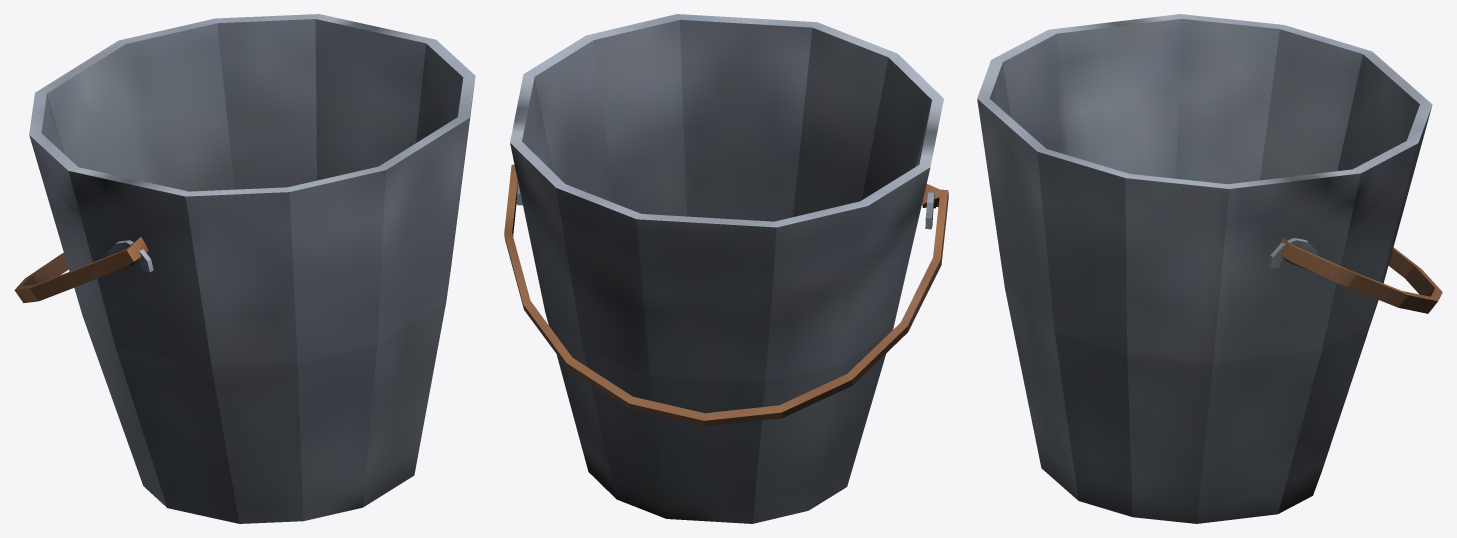
The model's file is bucket.glb.
3 views of the same model, side by side, from view 1: azimuth 30°, elevation 25°; view 2: azimuth 150°, elevation 25°; view 3: azimuth 270°, elevation 25° (orthographic). The views are drawn at different scales.
Parts seen in each view (by area): view 1: Object001.003_Object001_mtl_0; view 2: Object001.003_Object001_mtl_0; view 3: Object001.003_Object001_mtl_0.
Part boxes in pixels (x1=…): Object001.003_Object001_mtl_0: x1=14, y1=14, x2=475, y2=523; Object001.003_Object001_mtl_0: x1=504, y1=14, x2=948, y2=523; Object001.003_Object001_mtl_0: x1=977, y1=14, x2=1442, y2=523.
Size of the model in its own units: 1.44 by 1.32 by 1.45.
Materials: 1 (1 with a texture image).
